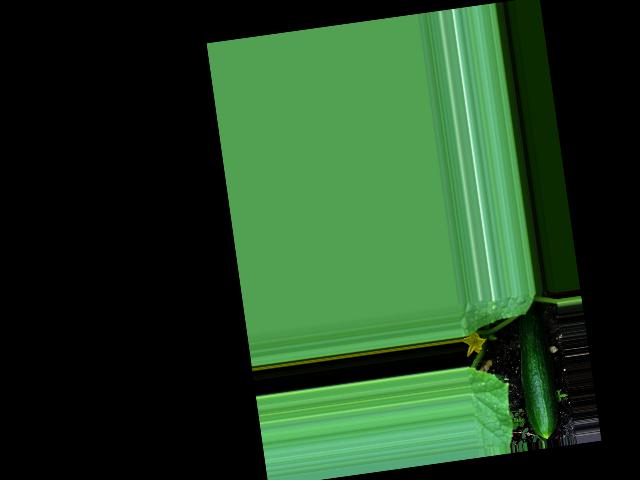cucumber: (511, 304, 563, 441)
